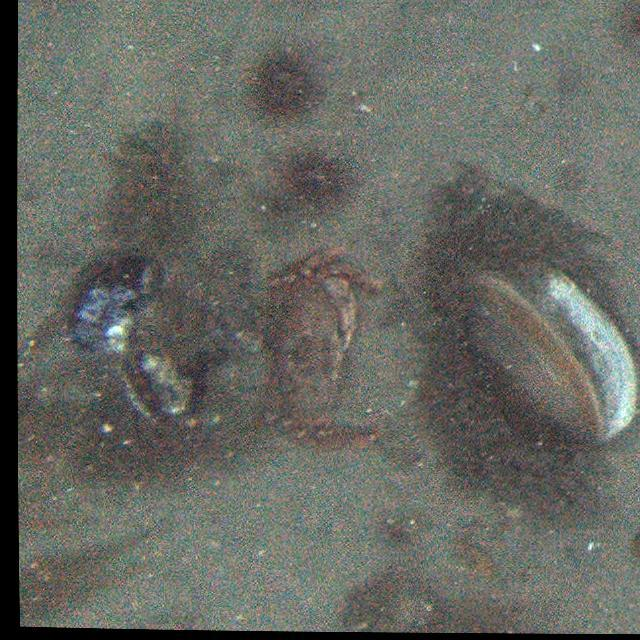crab: (265, 239, 383, 392)
